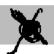not correct: (6, 4, 49, 54)
